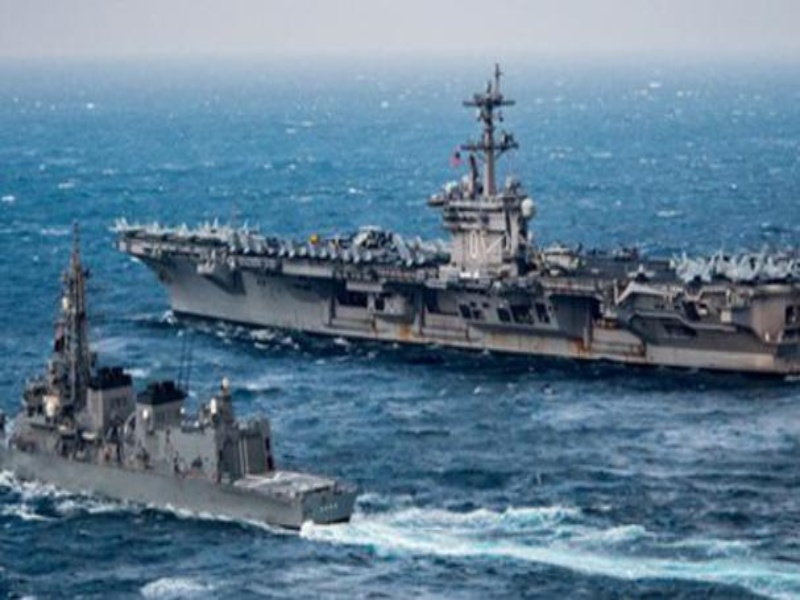carrier: (132, 112, 795, 374)
cruise: (9, 302, 360, 522)
